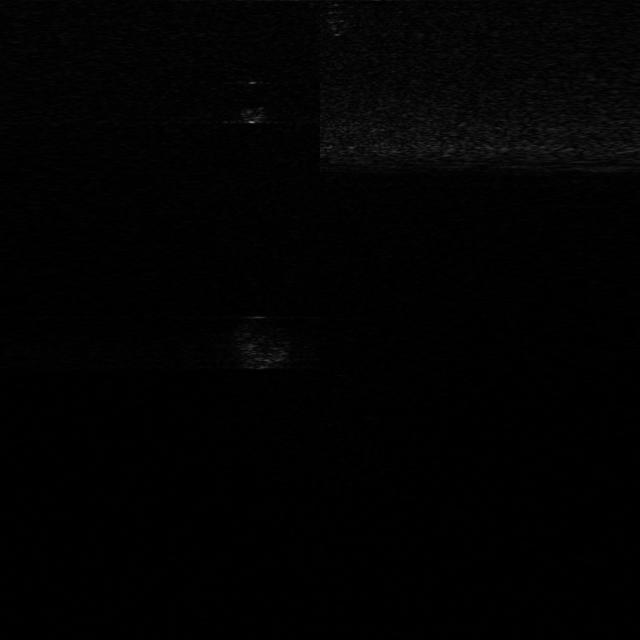ball: (212, 85, 276, 132)
circle cage: (220, 311, 308, 373)
